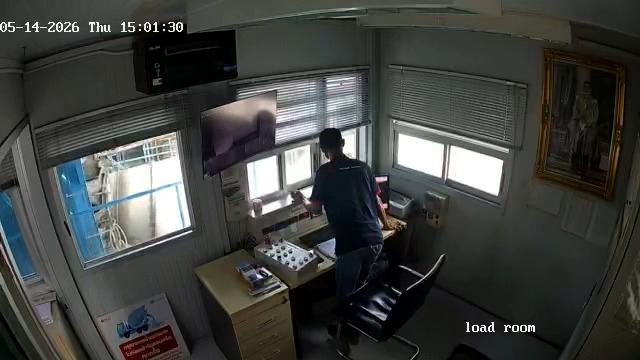Head: (315, 128, 352, 160)
People: (306, 128, 406, 302)
